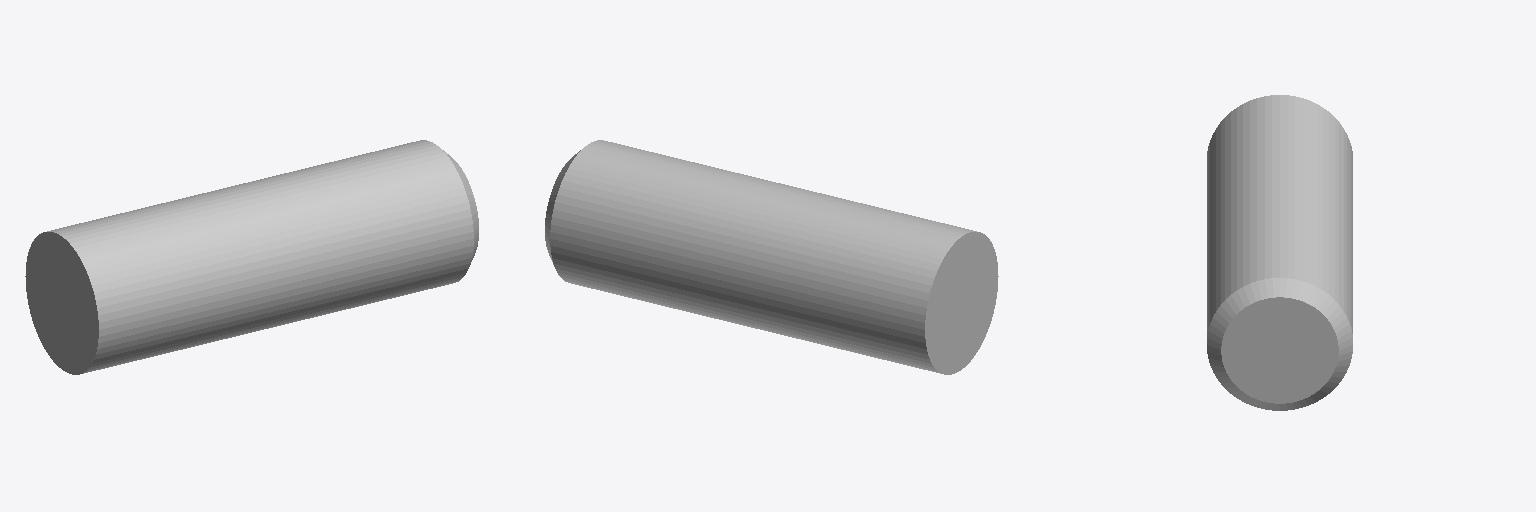
Rendered from ZagotovkaFaska.obj.
The picture shows the model from 3 angles: view 1: azimuth 30°, elevation 25°; view 2: azimuth 150°, elevation 25°; view 3: azimuth 270°, elevation 25°; orthographic projection.
Parts seen in each view (by area): view 1: pCylinder2; view 2: pCylinder2; view 3: pCylinder2.
Boxes of the visible parts, box(x1,y1,x2,y2) form: pCylinder2: box(25, 140, 478, 374); pCylinder2: box(545, 140, 998, 374); pCylinder2: box(1207, 95, 1352, 410).
Bounding box in the file's own units: 0.2663 × 0.0874 × 0.0874.